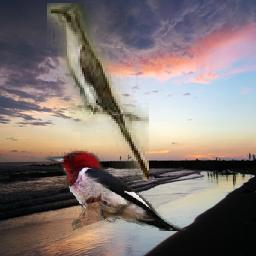Cuckoo: (47, 3, 149, 181)
Woodpecker: (43, 149, 188, 231)
